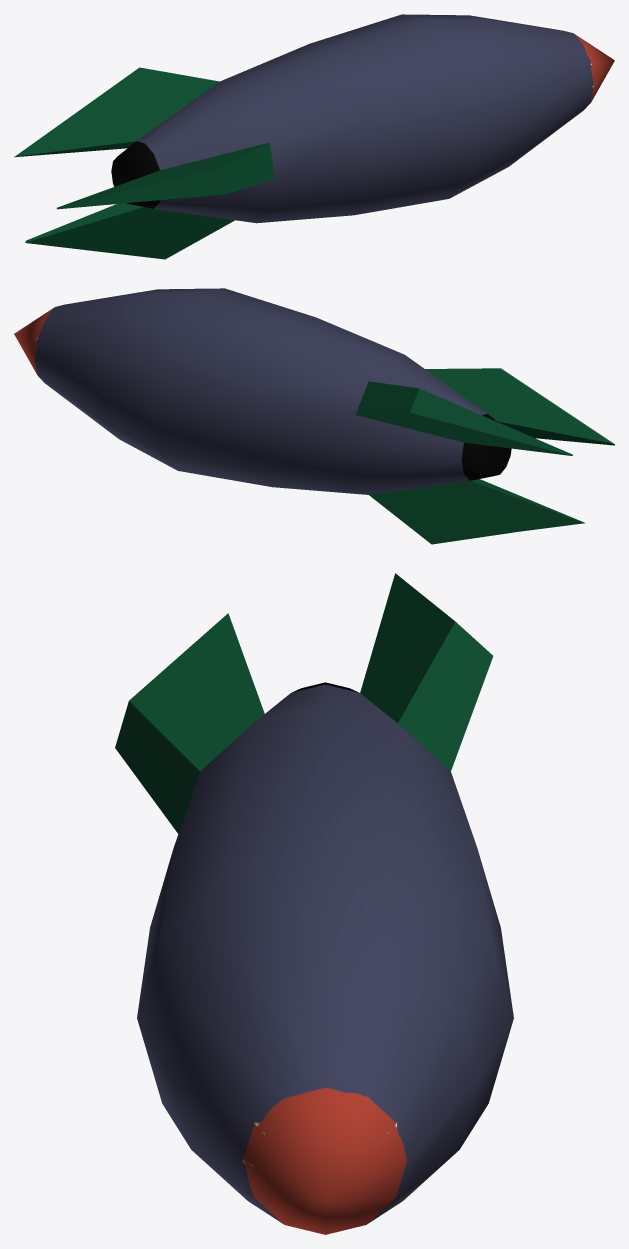
Rendered from Missel.fbx.
3 views of the same model, one above another, from view 1: azimuth 30°, elevation 25°; view 2: azimuth 150°, elevation 25°; view 3: azimuth 270°, elevation 25° (orthographic). The views are drawn at different scales.
Visible parts, largest first — view 1: MisselTeleguiado; view 2: MisselTeleguiado; view 3: MisselTeleguiado.
Part boxes in pixels (<box>): MisselTeleguiado: <box>14,14,614,259</box>; MisselTeleguiado: <box>14,288,614,544</box>; MisselTeleguiado: <box>115,573,513,1234</box>.
Size of the model in its own units: 835 by 250 by 250.
